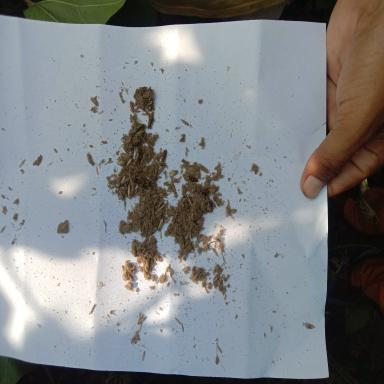pbw: (147, 111, 154, 129), (168, 169, 178, 177), (157, 218, 163, 231), (161, 149, 167, 161), (122, 146, 130, 154), (172, 177, 180, 185), (126, 158, 132, 168), (158, 200, 164, 209), (116, 160, 127, 164), (128, 182, 130, 196)
